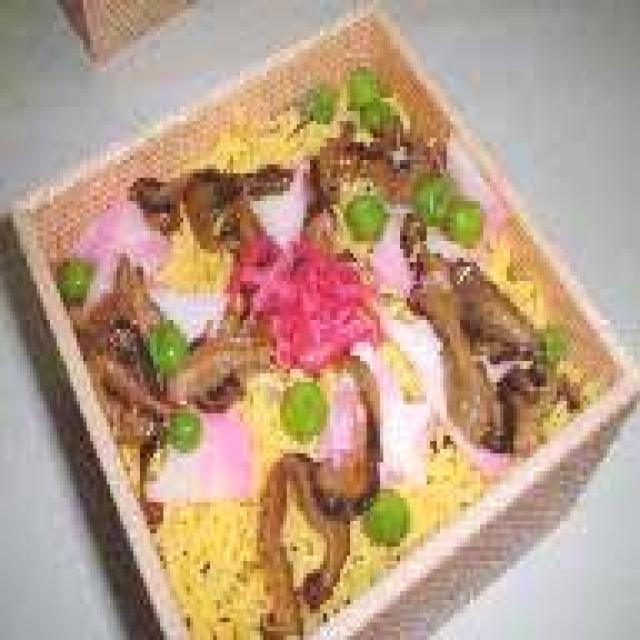寿司卷物: (20, 53, 600, 640)
